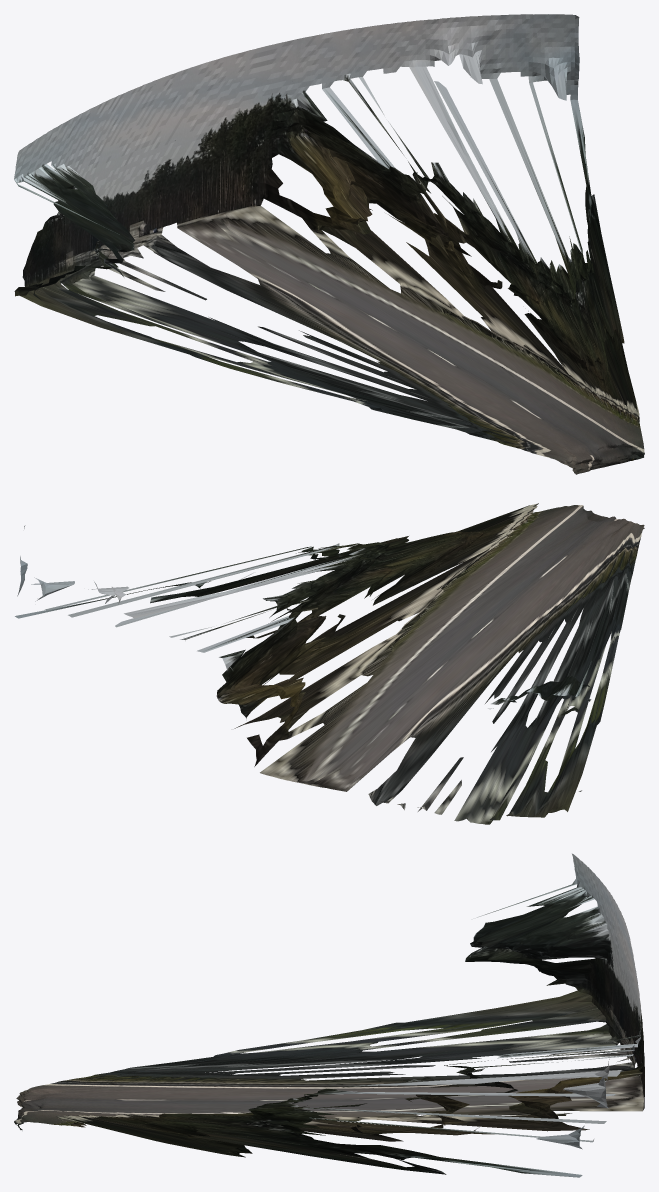
3 renders of one model, top to bottom at view 1: azimuth 30°, elevation 25°; view 2: azimuth 150°, elevation 25°; view 3: azimuth 270°, elevation 25°, orthographic. The views are drawn at different scales.
Visible parts, largest first — view 1: defaultobject; view 2: defaultobject; view 3: defaultobject.
Boxes of the visible parts, x1=… form: defaultobject: x1=14, y1=14, x2=644, y2=474; defaultobject: x1=15, y1=503, x2=644, y2=824; defaultobject: x1=14, y1=853, x2=644, y2=1177.
Size of the model in its own units: 40.95 by 12.35 by 44.38.
1 material, 1 textured.
